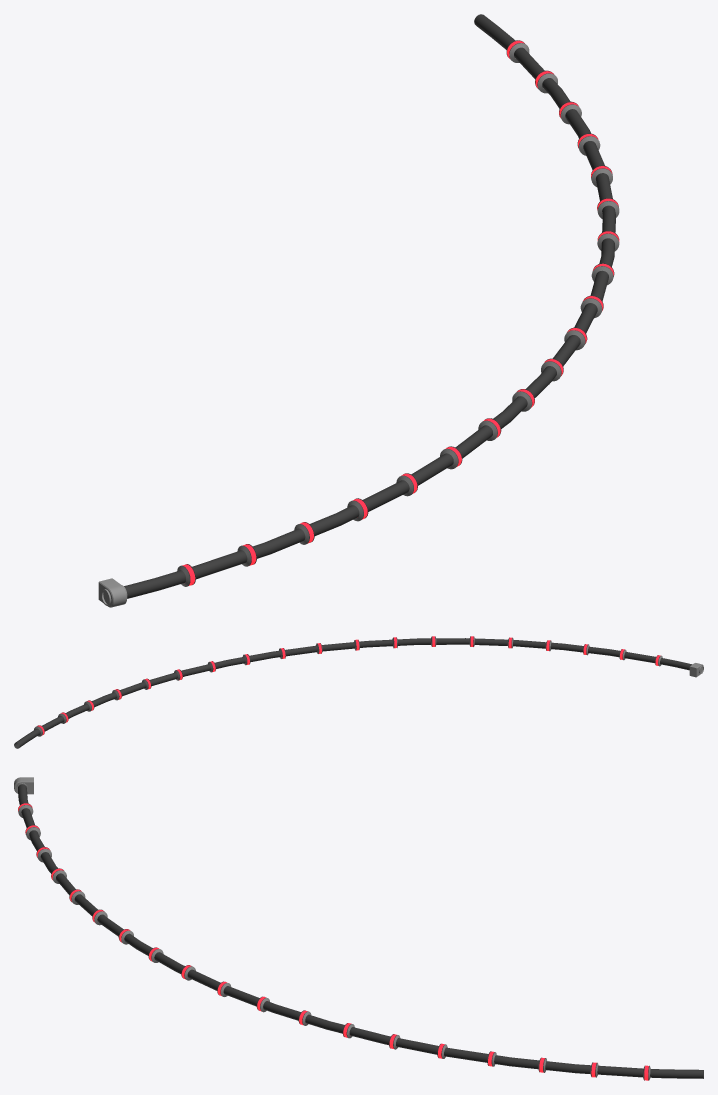
The model's file is Red_Cable_B_12_rounded.fbx.
3 renders of one model, top to bottom at view 1: azimuth 30°, elevation 25°; view 2: azimuth 150°, elevation 25°; view 3: azimuth 270°, elevation 25°, orthographic. The views are drawn at different scales.
Parts seen in each view (by area): view 1: Red_Cable_B_12_rounded.001; view 2: Red_Cable_B_12_rounded.001; view 3: Red_Cable_B_12_rounded.001.
Boxes of the visible parts, left/top/right/bottom form: Red_Cable_B_12_rounded.001: left=98, top=14, right=619, bottom=607; Red_Cable_B_12_rounded.001: left=14, top=636, right=703, bottom=748; Red_Cable_B_12_rounded.001: left=14, top=777, right=703, bottom=1080.
Bounding box in the file's own units: 12.01 × 0.2585 × 11.94.
